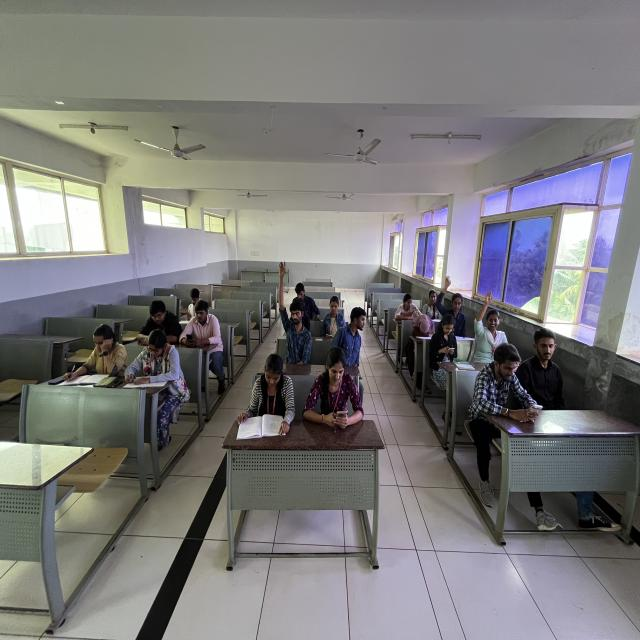Hand Rising: (278, 258, 314, 375), (473, 286, 509, 353), (434, 268, 470, 332)
Reading: (235, 344, 292, 456), (318, 291, 347, 341)
Using Phone: (472, 338, 544, 438), (301, 344, 369, 432), (176, 292, 225, 362), (428, 315, 458, 375)
Writing: (119, 329, 190, 408), (68, 310, 124, 382)
